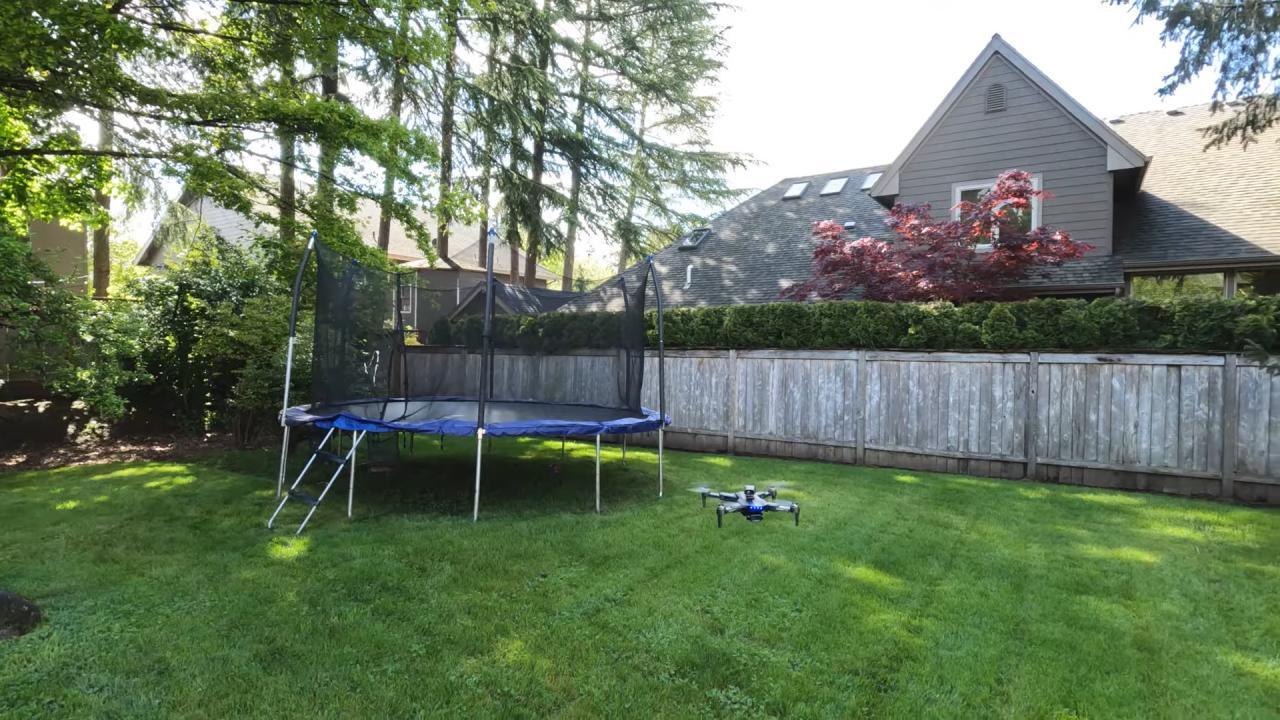Drone: (683, 474, 812, 541)
